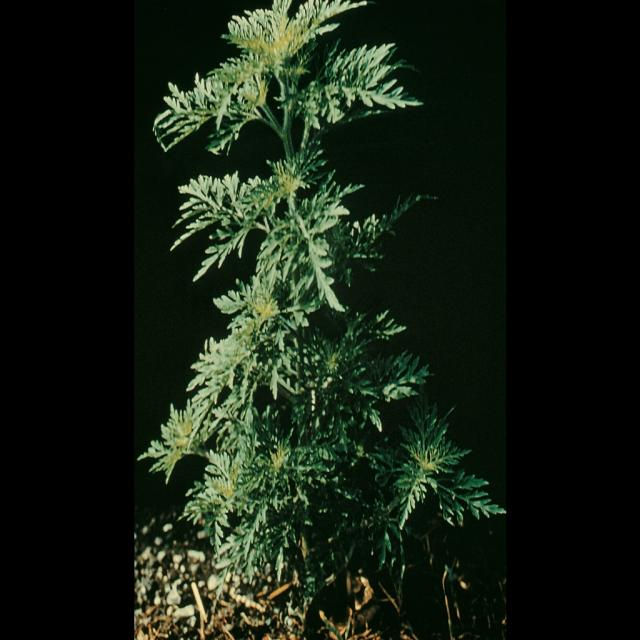ambrosia: (170, 4, 440, 615)
